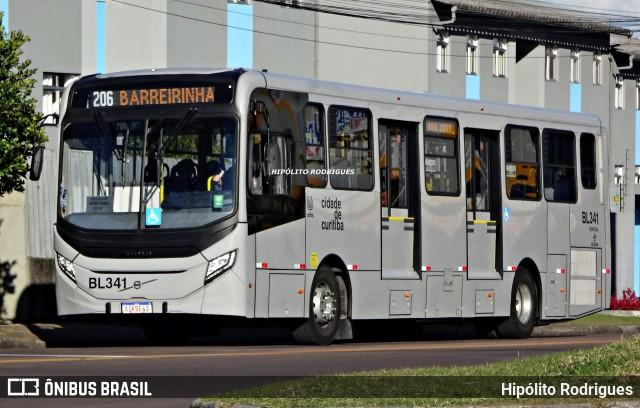BARREIRINHA: (116, 83, 219, 109)
